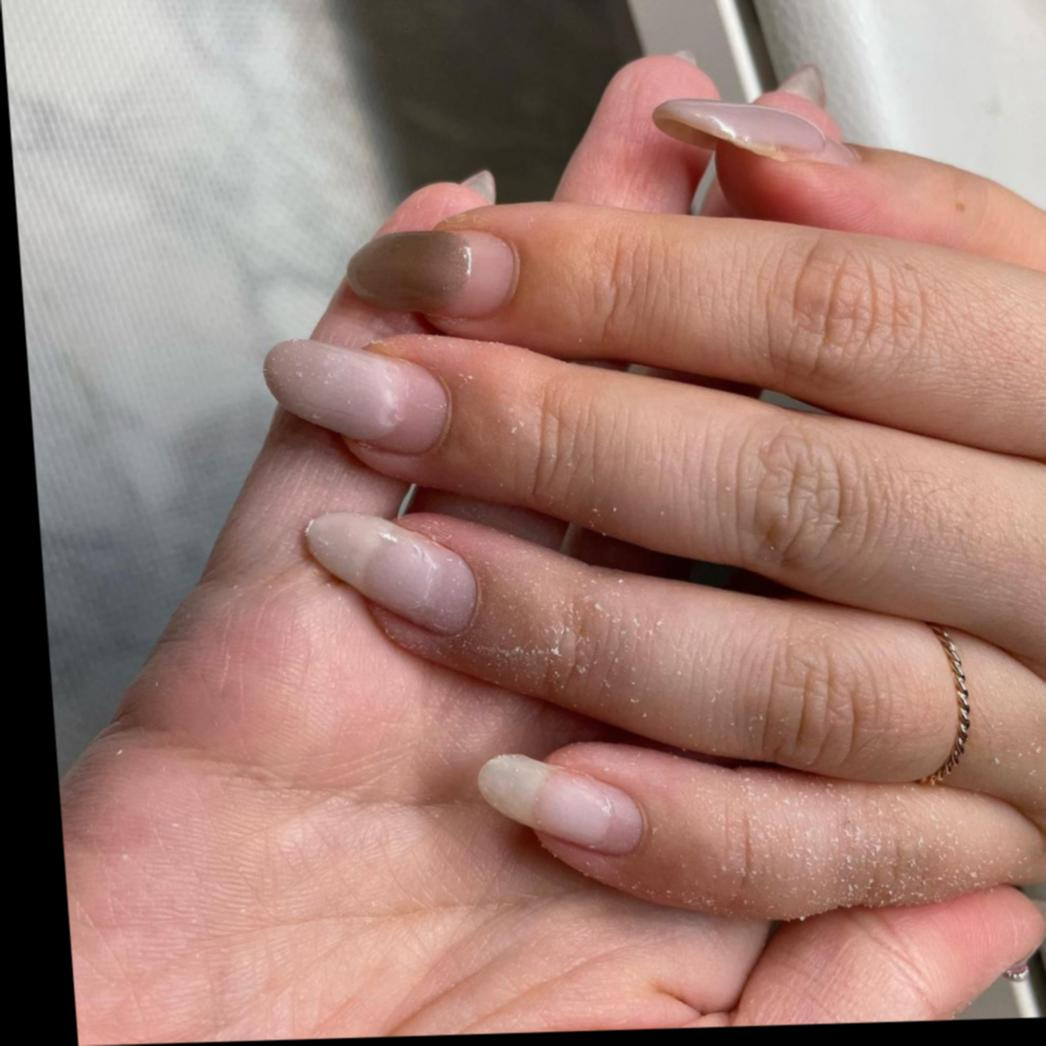nail: (260, 334, 457, 462), (301, 508, 483, 643), (474, 750, 649, 862), (342, 226, 523, 324), (650, 94, 859, 175)
